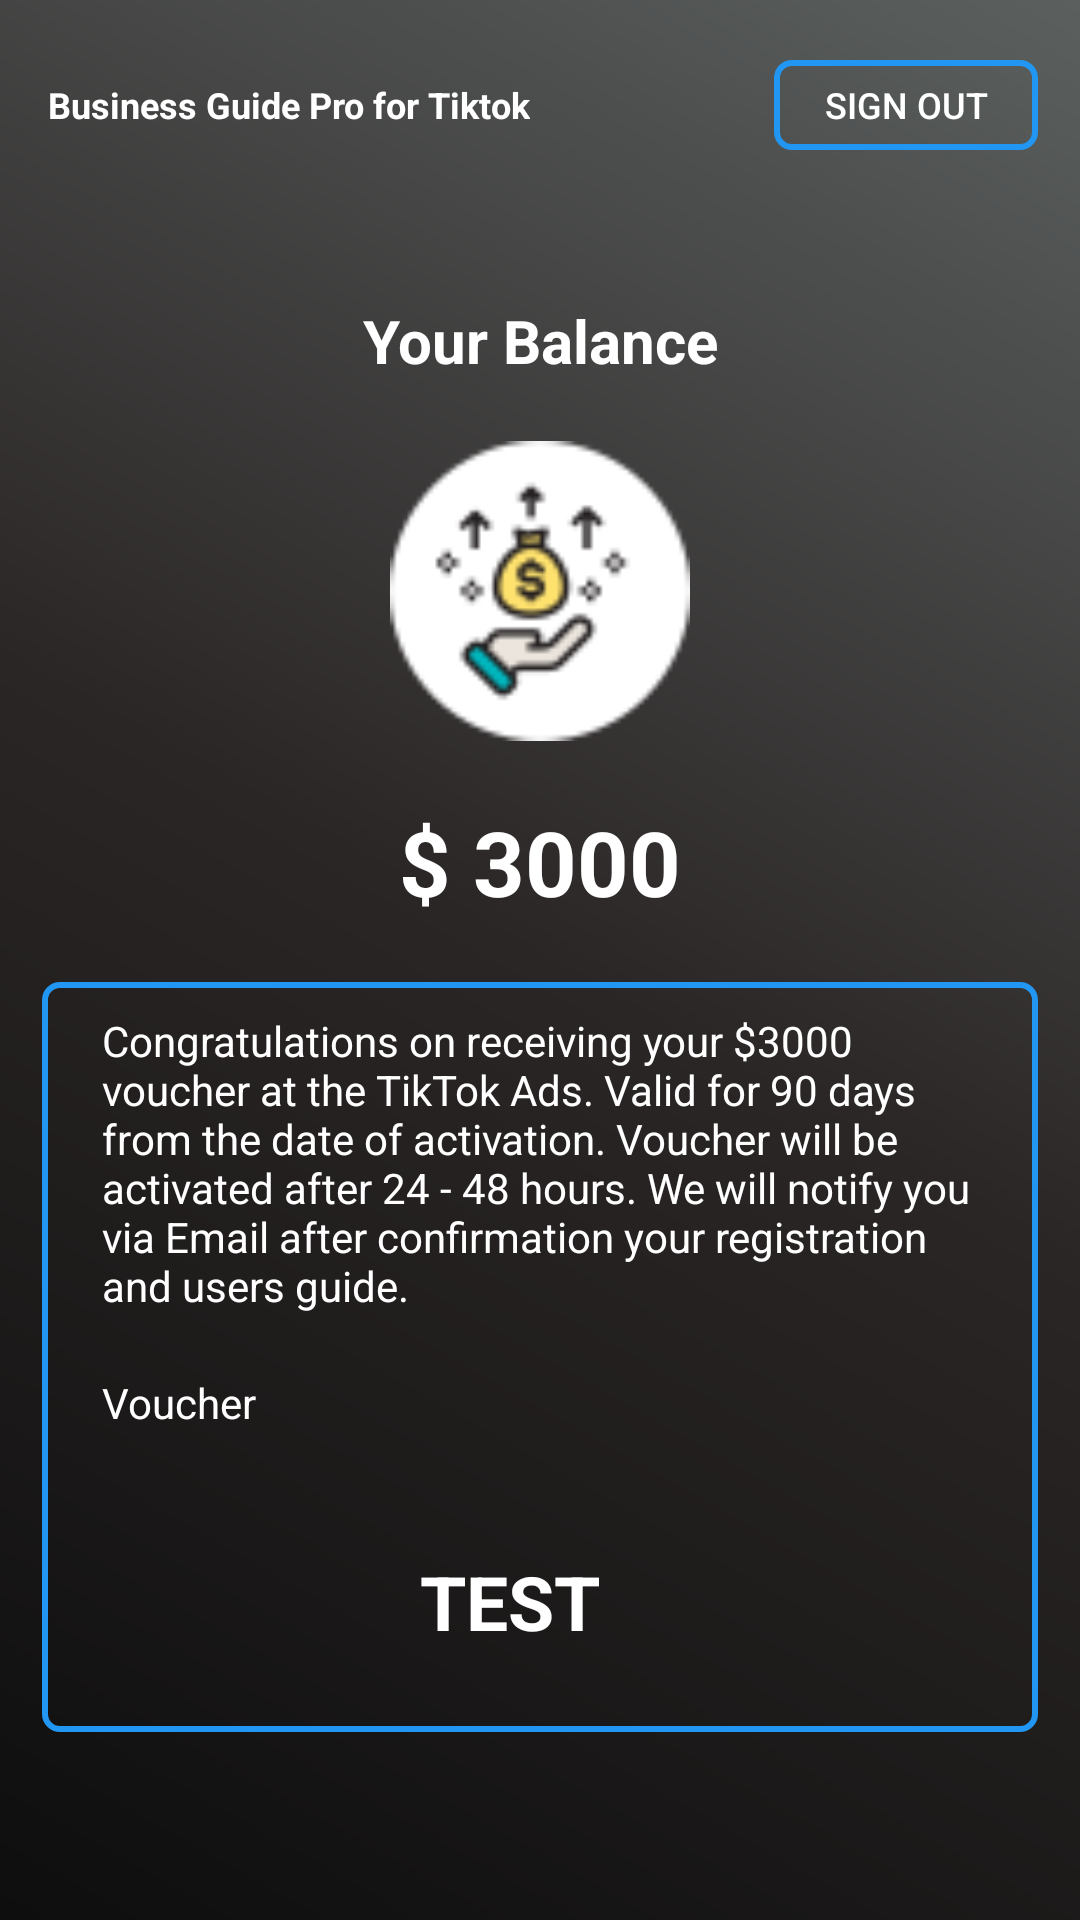

Where icons sit on this 1080×1920 app screen, as (x1, y1, x2, y2):
money: (390, 441, 690, 741)
